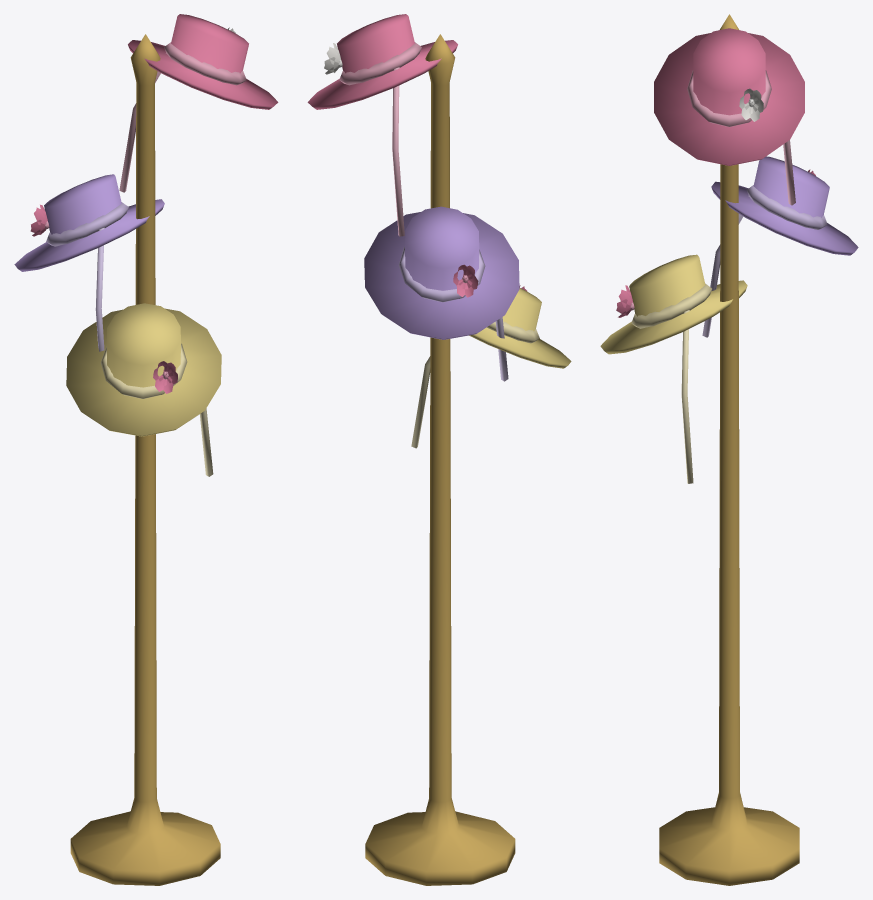
File: hat_stand.glb
3 views of the same model, side by side, from view 1: azimuth 30°, elevation 25°; view 2: azimuth 150°, elevation 25°; view 3: azimuth 270°, elevation 25° (orthographic). The views are drawn at different scales.
Parts seen in each view (by area): view 1: hat_stand; view 2: hat_stand; view 3: hat_stand.
Part boxes in pixels (x1,y1,x2,y2): hat_stand: (14,14,278,885); hat_stand: (307,14,571,885); hat_stand: (600,14,858,885).
Size of what is drawn, in the model's own units: 0.5 by 1.8 by 0.5.
